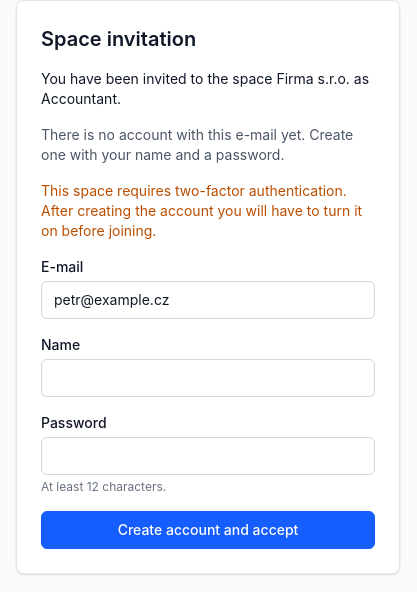
Test: InviteAcceptView › two-factor authentication › explains 403 mfa_required + account_created for a new account
Expected: the text with test id "accept-require-mfa" shows "After creating the account", [41,182,362,239]
Type "Petr" into the field with test id "accept-name" at (208, 378), box [41,359,375,397]
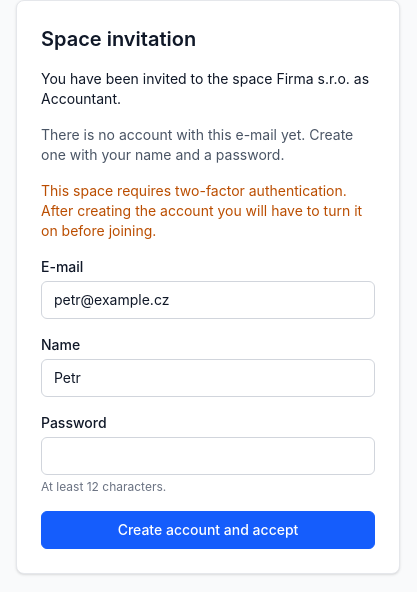
Type "long enough pw" into the password field with test id "accept-password" at (208, 456), box [41,437,375,475]
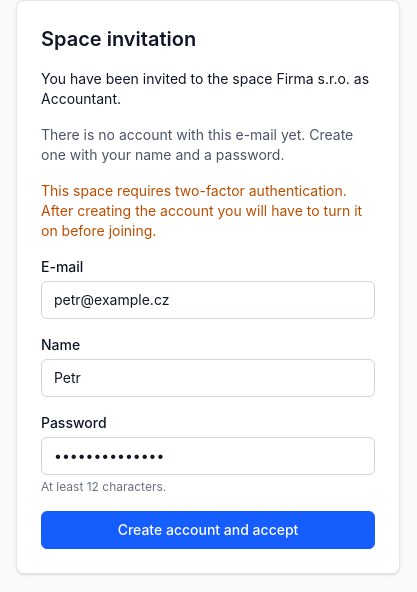
Submit the form
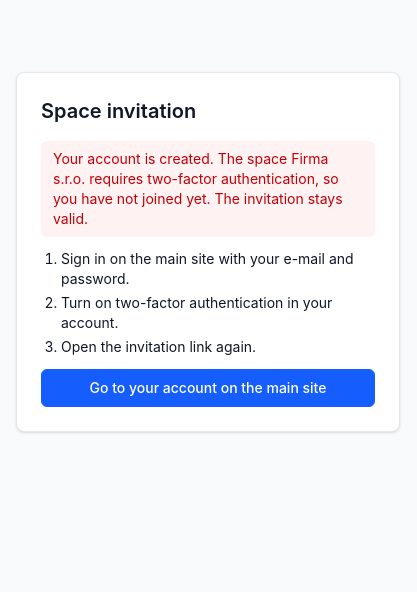
Expected: the element with test id "accept-mfa-created" shows "Your account is created.", [53,150,343,227]
Expected: the list item "Sign in on the main site with your e-mail and password." is shown, [61,249,375,289]
